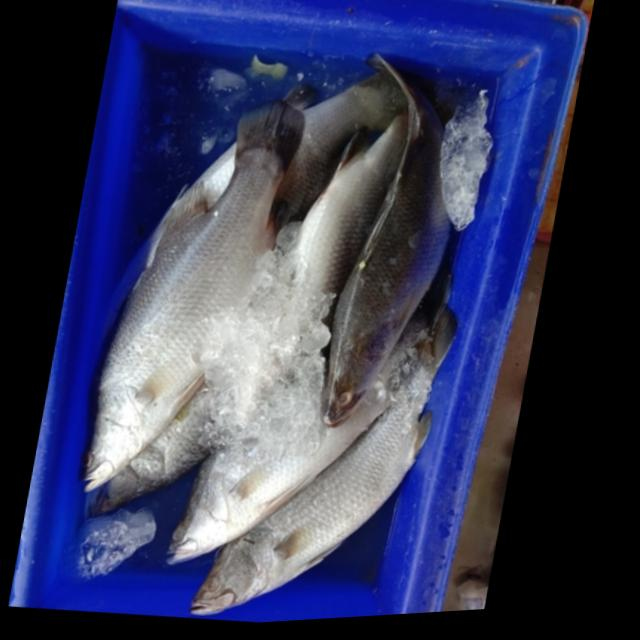Seabass: (74, 83, 307, 507), (186, 280, 463, 627), (162, 283, 437, 591), (307, 39, 488, 444)
